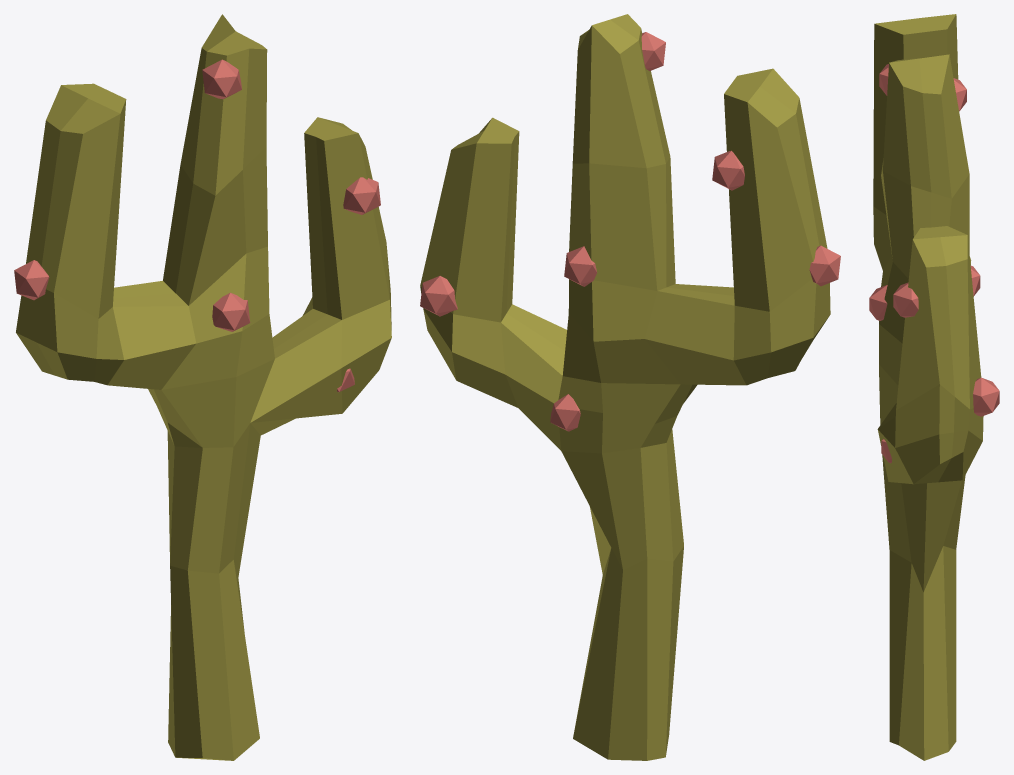
File: Cactus.fbx
3 views of the same model, side by side, from view 1: azimuth 30°, elevation 25°; view 2: azimuth 150°, elevation 25°; view 3: azimuth 270°, elevation 25° (orthographic). The views are drawn at different scales.
Parts seen in each view (by area): view 1: Cube, Icosphere; view 2: Cube, Icosphere; view 3: Cube, Icosphere.
Part boxes in pixels (box(x1,y1,x2,y2)): Cube: box(16, 14, 391, 760); Icosphere: box(14, 59, 380, 392); Cube: box(420, 14, 830, 760); Icosphere: box(420, 32, 840, 431); Cube: box(873, 14, 983, 760); Icosphere: box(869, 64, 999, 463).
Size of the model in its own units: 105 by 186 by 31.55.
